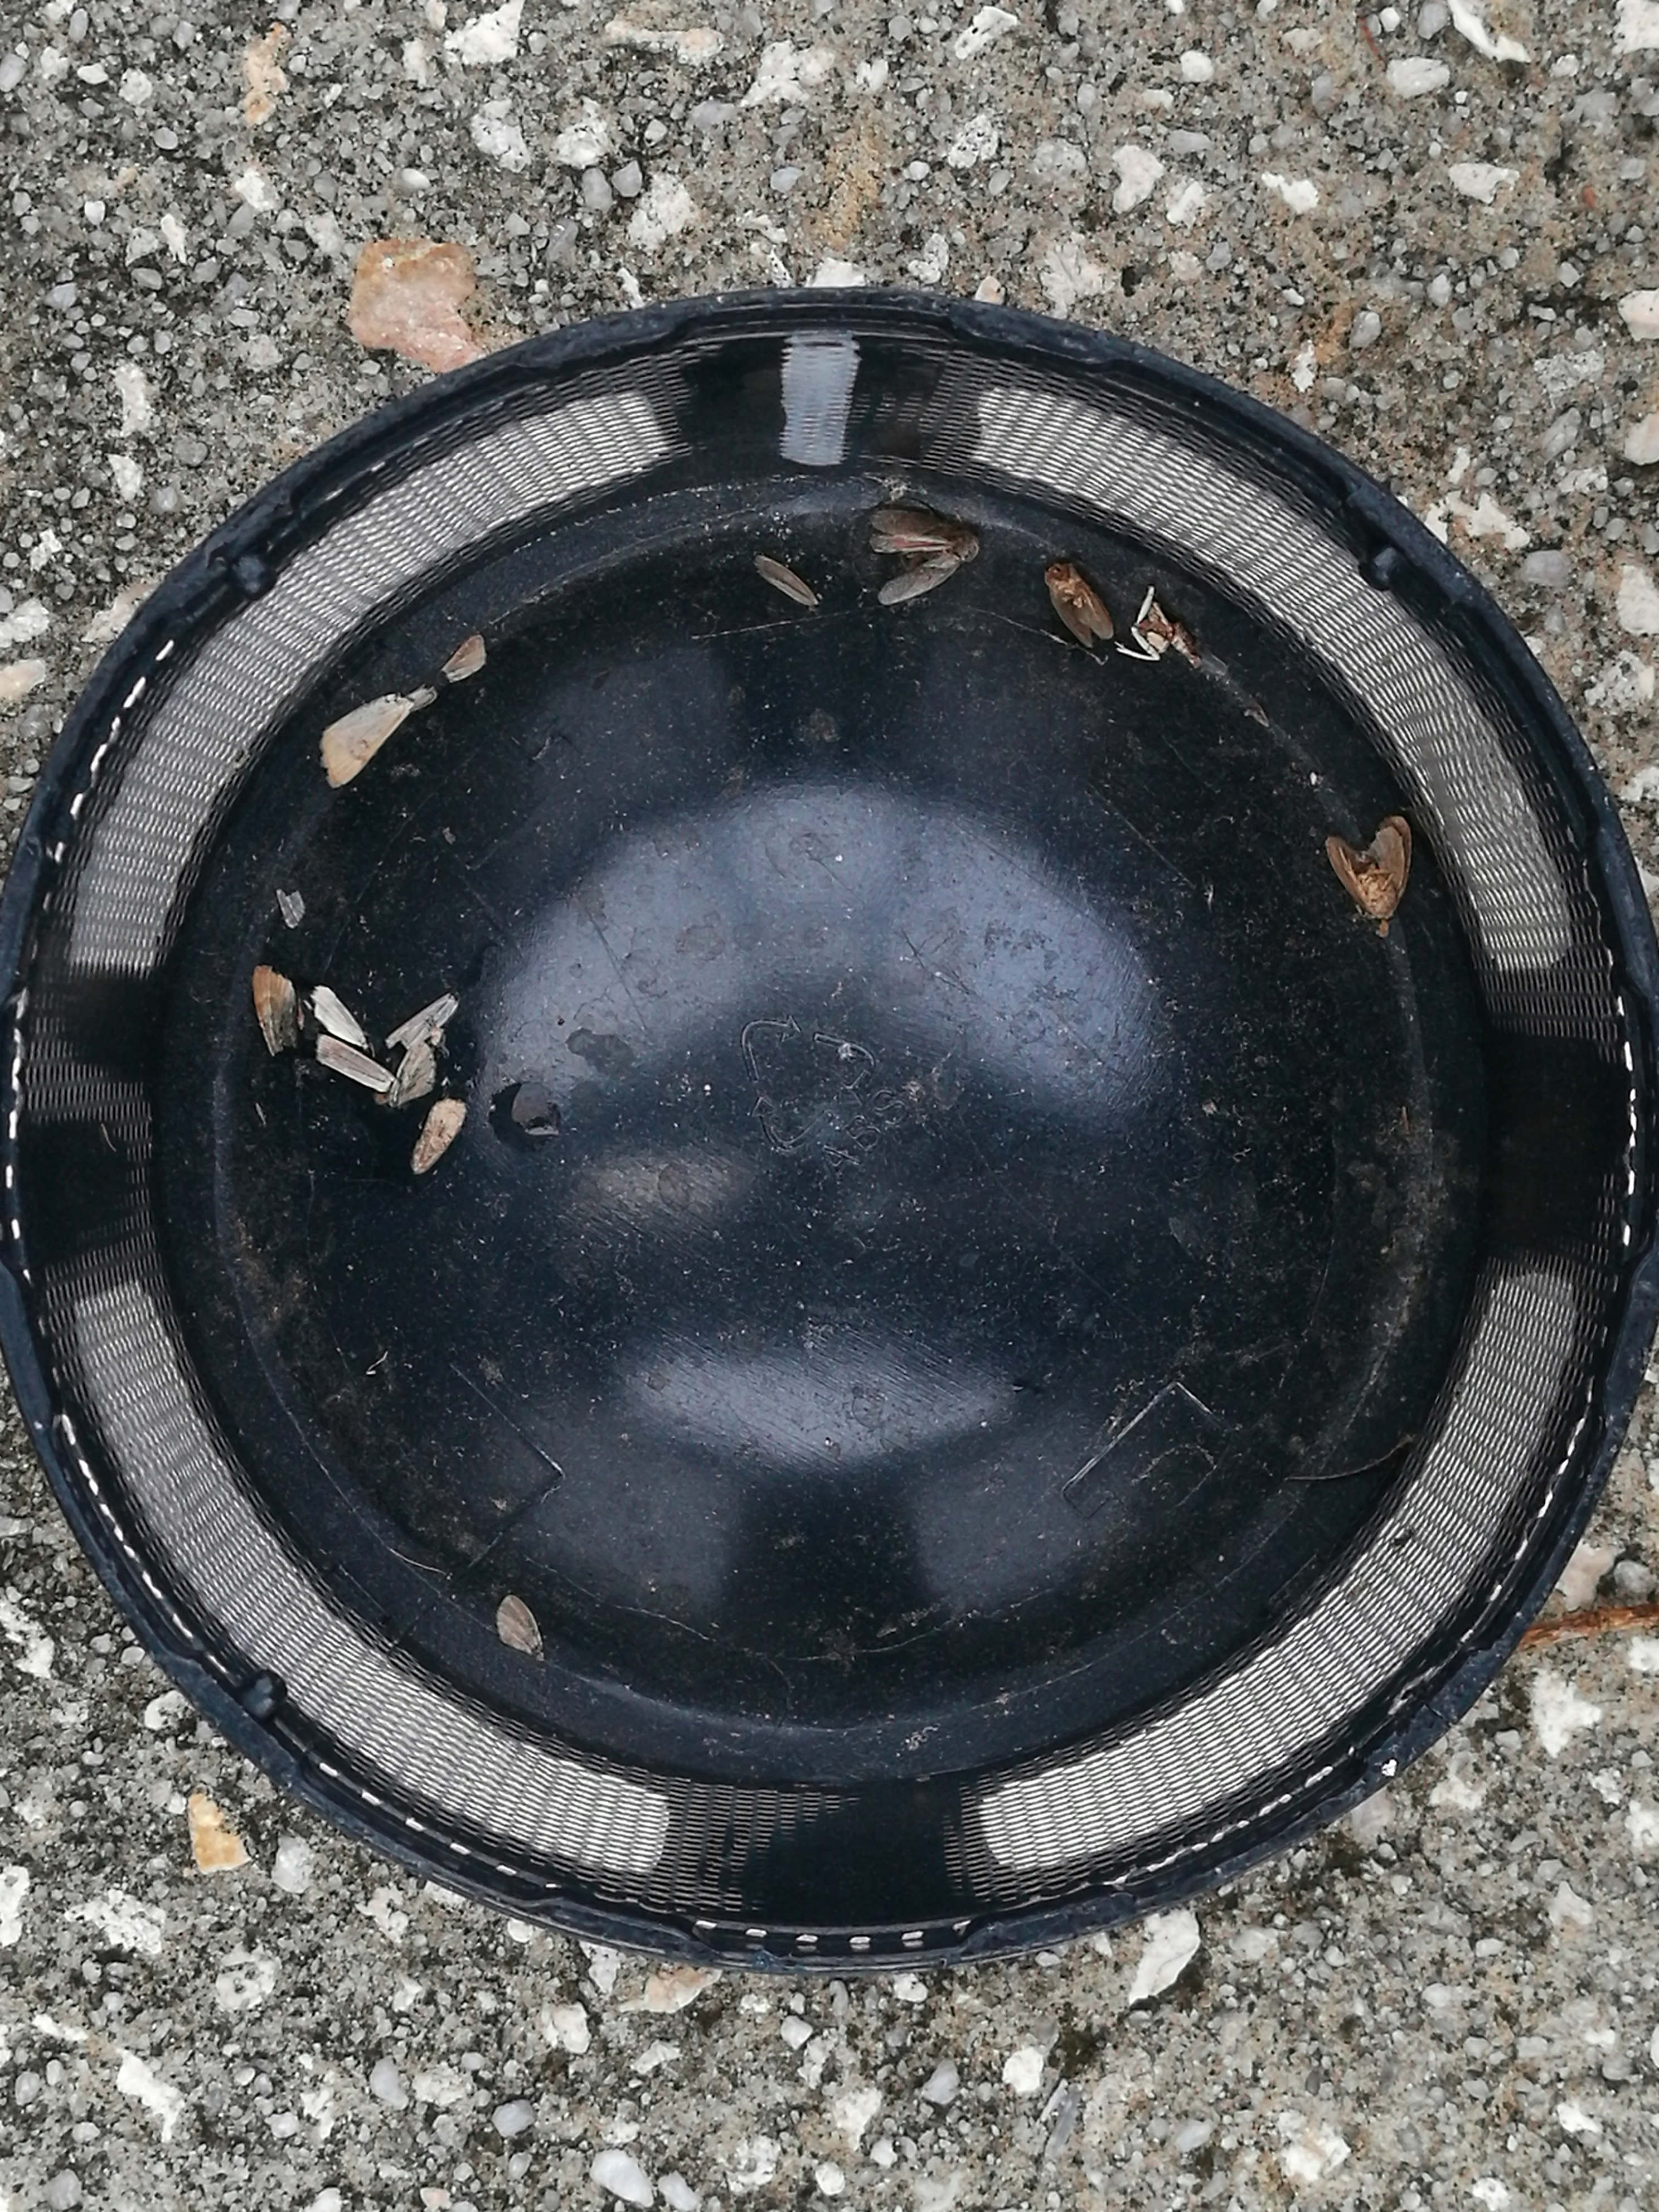moth: (873, 509, 979, 601), (1328, 817, 1412, 920), (1046, 561, 1114, 646)
